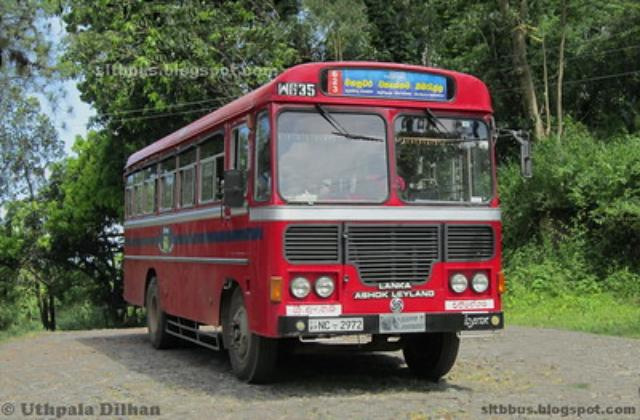bus: (123, 61, 502, 384)
